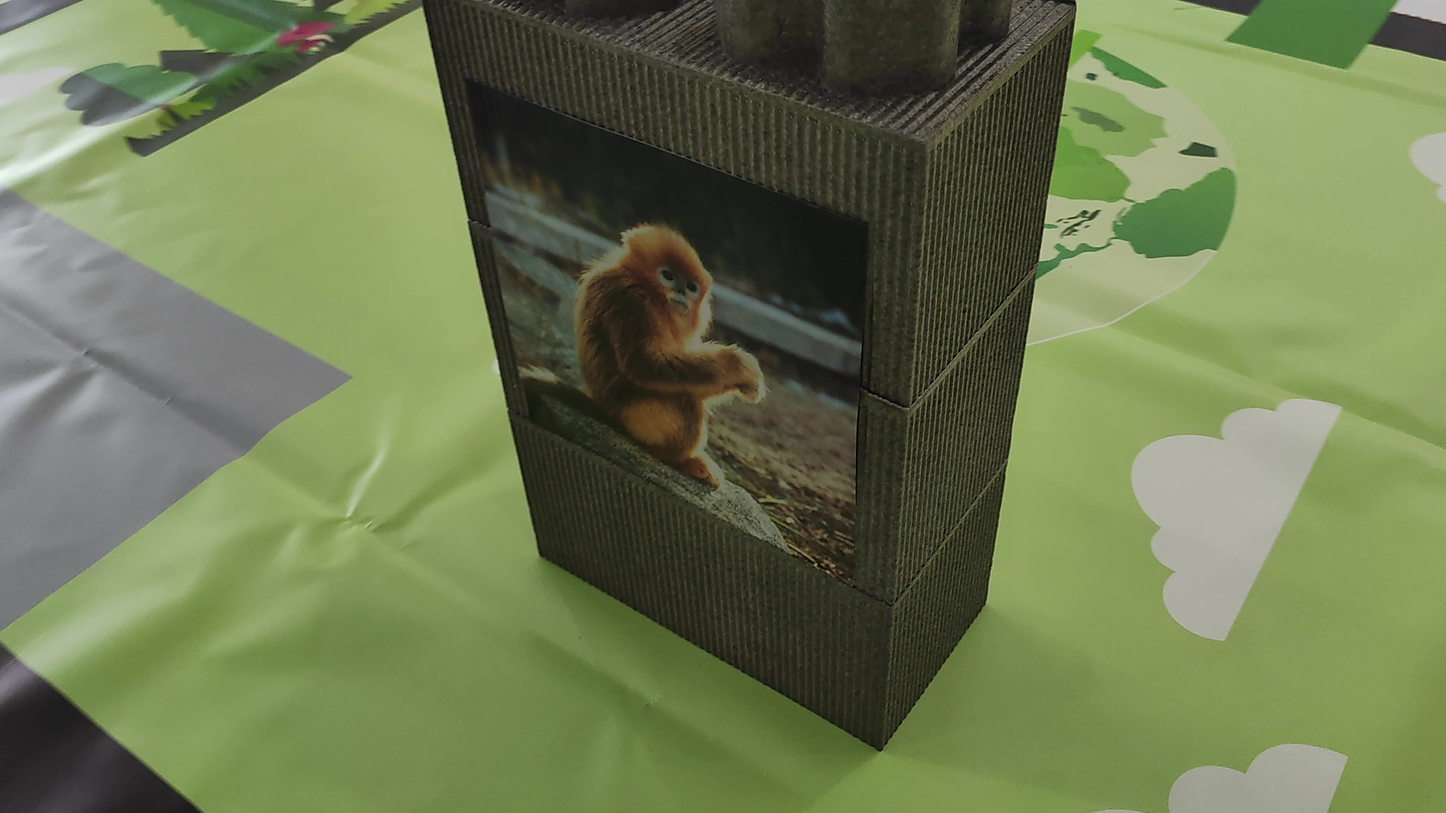monkey: (506, 180, 800, 501)
